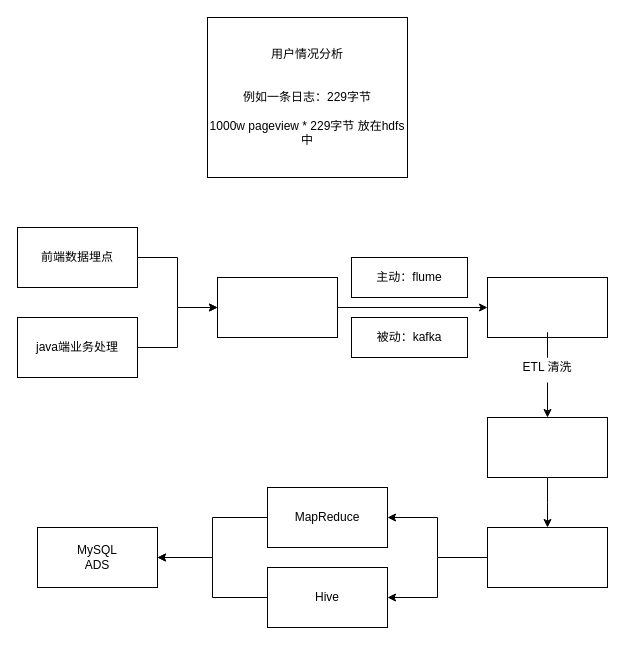
This 625x645 diagram has some shape labels left out. The centre of each missing label's shape, as x and y in pixels:
"HBase-HDFS DW层" belongs at (547,447).
"HDFS ODS" belongs at (547,307).
"nginx日志服务器" belongs at (277,307).
"数据聚合计算 MapReduce" belongs at (547,557).
